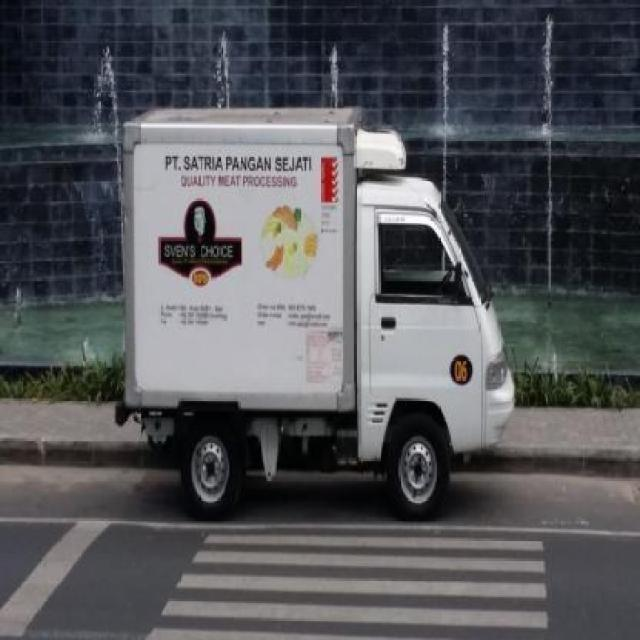Truck: (116, 104, 516, 508)
